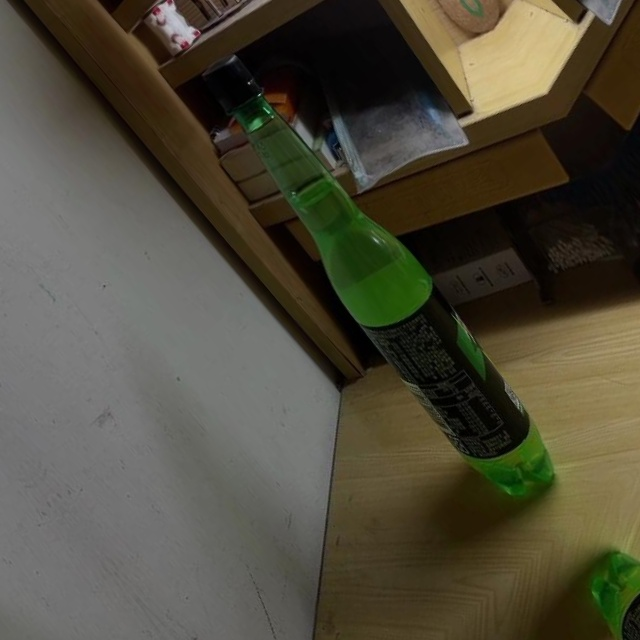Mountain-Dew: (166, 45, 583, 517)
